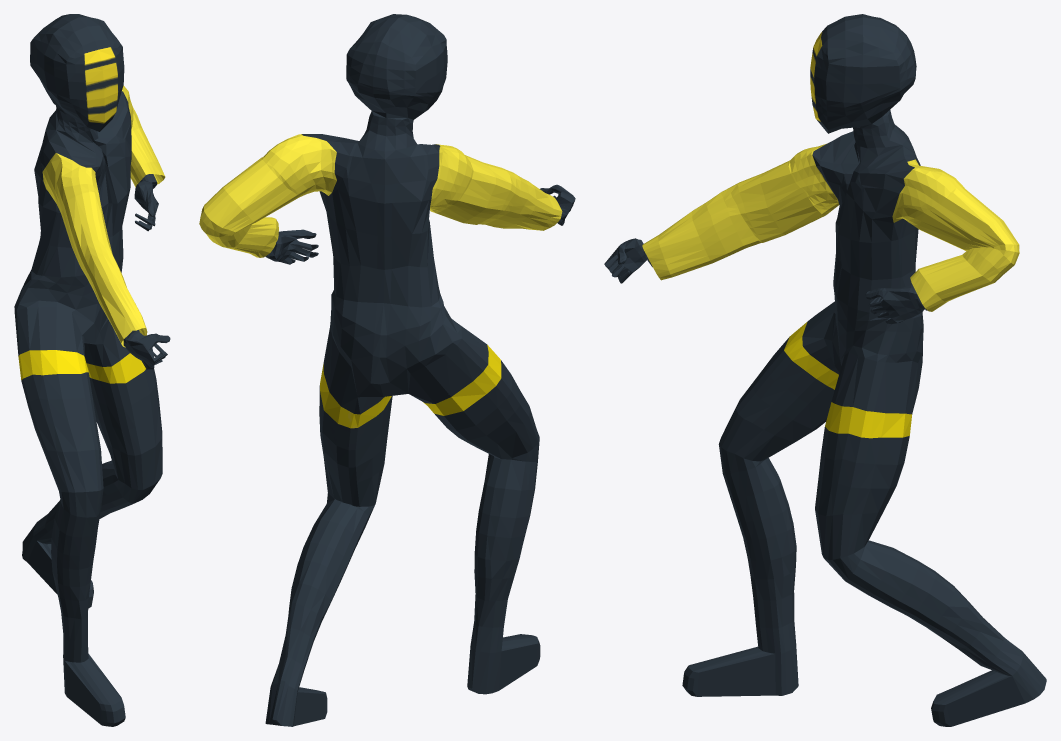
Rendered from Sentry_WB_000024.obj.
The picture shows the model from 3 angles, left to right: view 1: azimuth 30°, elevation 25°; view 2: azimuth 150°, elevation 25°; view 3: azimuth 270°, elevation 25°; orthographic projection. The views are drawn at different scales.
Parts seen in each view (by area): view 1: Cube; view 2: Cube; view 3: Cube.
Boxes of the visible parts, x1,y1,x2,y2 form: Cube: [14, 14, 170, 726]; Cube: [199, 14, 575, 726]; Cube: [604, 14, 1046, 726].
Size of the model in its own units: 1.17 by 3.67 by 2.11.
